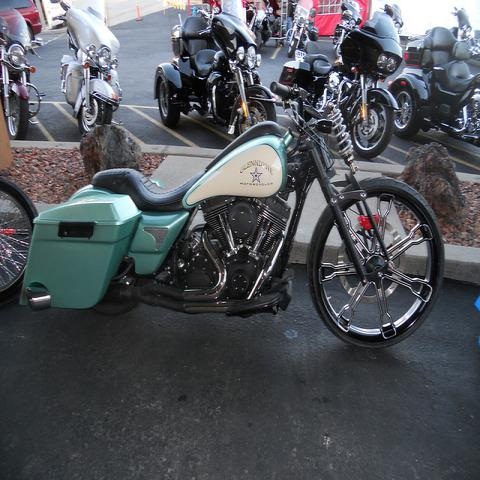car: (0, 0, 44, 40)
motorcycle: (23, 84, 442, 353), (279, 12, 402, 158), (153, 8, 280, 140), (386, 28, 480, 149), (58, 4, 122, 136), (0, 6, 47, 139), (0, 177, 42, 304), (406, 10, 479, 58), (284, 0, 318, 57), (330, 1, 362, 59), (243, 0, 276, 48), (381, 4, 403, 34)
